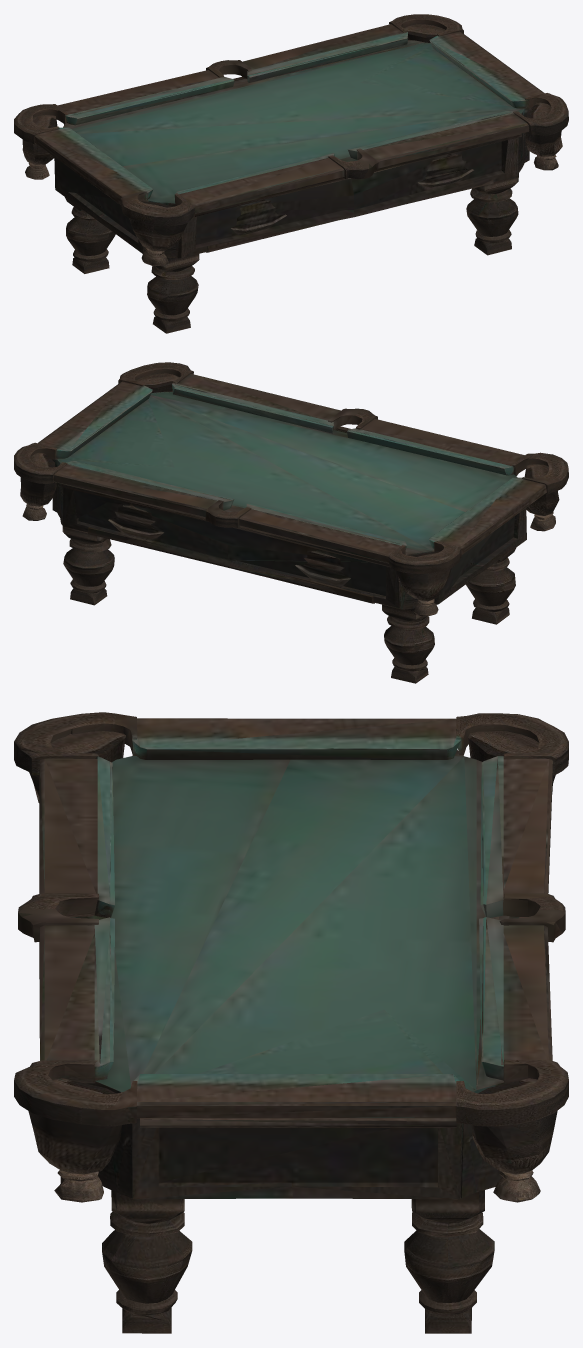
Rendered from pool-table.glb.
3 views of the same model, one above another, from view 1: azimuth 30°, elevation 25°; view 2: azimuth 150°, elevation 25°; view 3: azimuth 270°, elevation 25° (orthographic). The views are drawn at different scales.
Visible parts, largest first — view 1: GLTF; view 2: GLTF; view 3: GLTF.
Part boxes in pixels (bbox=[...]): GLTF: bbox=[14, 14, 568, 333]; GLTF: bbox=[14, 362, 568, 683]; GLTF: bbox=[14, 712, 568, 1333].
Size of the model in its own units: 2.8 by 0.879 by 1.65.
Materials: 1 (1 with a texture image).
